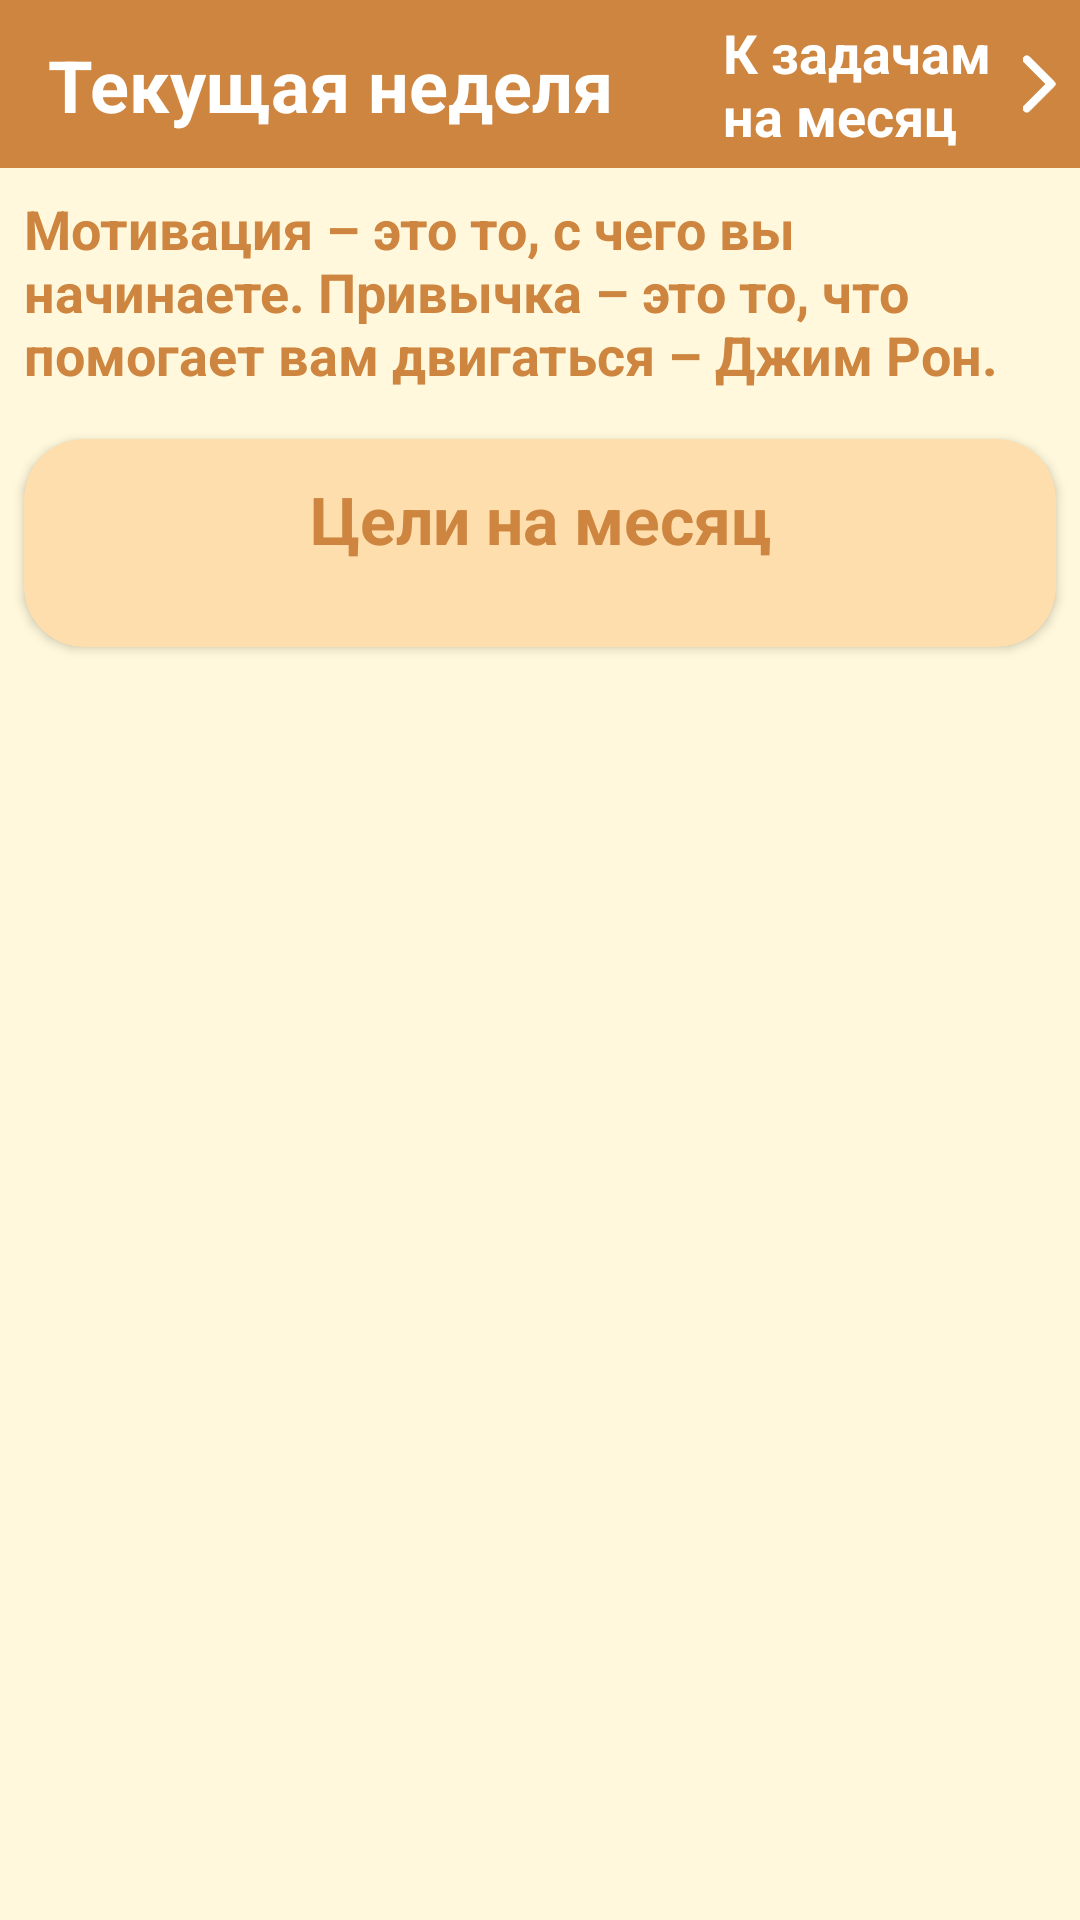

Icons on this 1080x1920 Android screen, each with its box as bbox=(x1, y1, x2, y2):
next: bbox=(1023, 55, 1056, 113)
